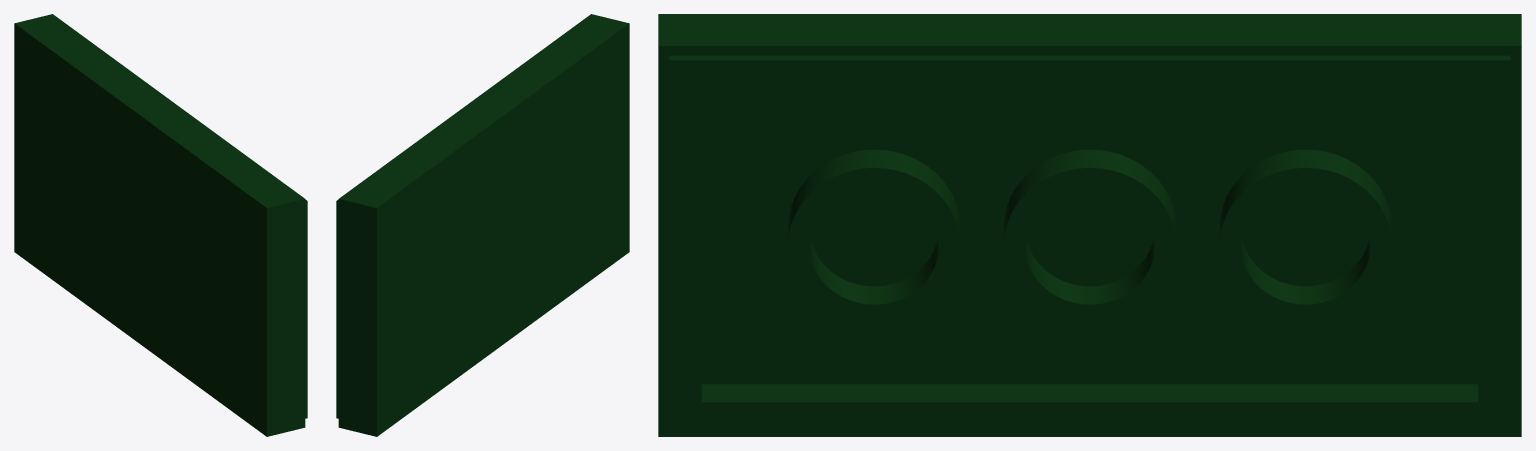
File: tile2*4.obj
The picture shows the model from 3 angles, left to right: view 1: azimuth 30°, elevation 25°; view 2: azimuth 150°, elevation 25°; view 3: azimuth 270°, elevation 25°; orthographic projection. The views are drawn at different scales.
Size of the model in its own units: 8 by 40 by 80.
